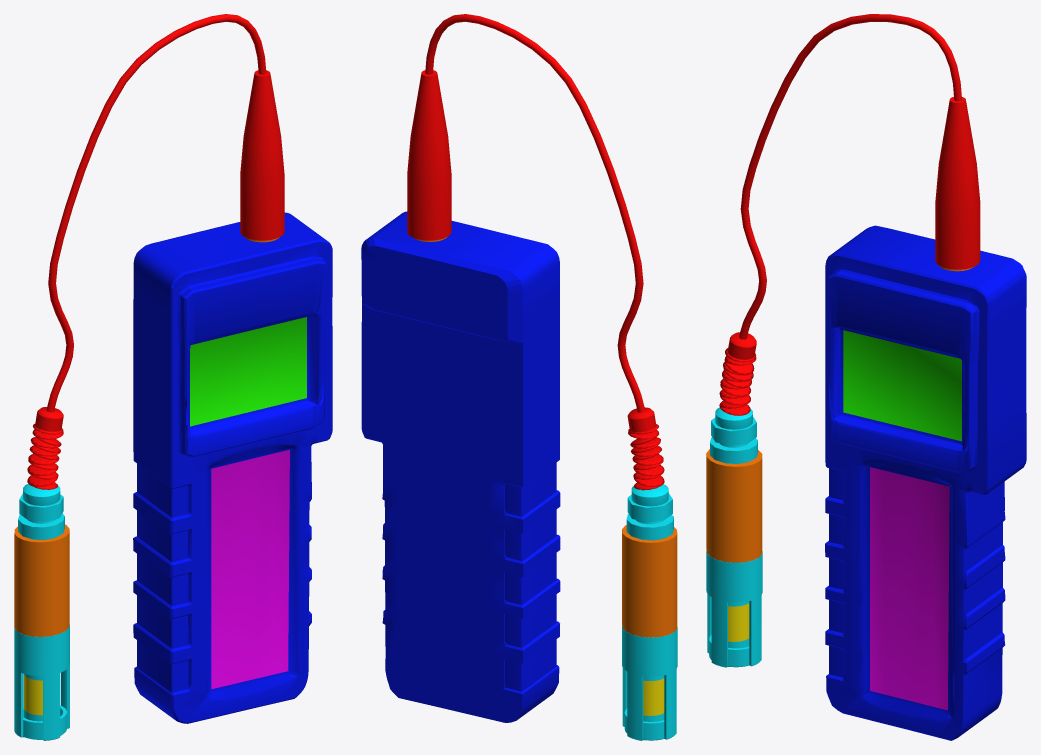
Rendered from DOMeter_Package_Prep.FBX.
3 views of the same model, side by side, from view 1: azimuth 30°, elevation 25°; view 2: azimuth 150°, elevation 25°; view 3: azimuth 330°, elevation 25° (orthographic).
Visible parts, largest first — view 1: Main_Controller; view 2: Main_Controller; view 3: Main_Controller.
Boxes of the visible parts, x1=… form: Main_Controller: x1=14, y1=14, x2=332, y2=740; Main_Controller: x1=361, y1=14, x2=677, y2=740; Main_Controller: x1=706, y1=14, x2=1026, y2=740.
Size of the model in its own units: 189 by 417 by 52.31.
